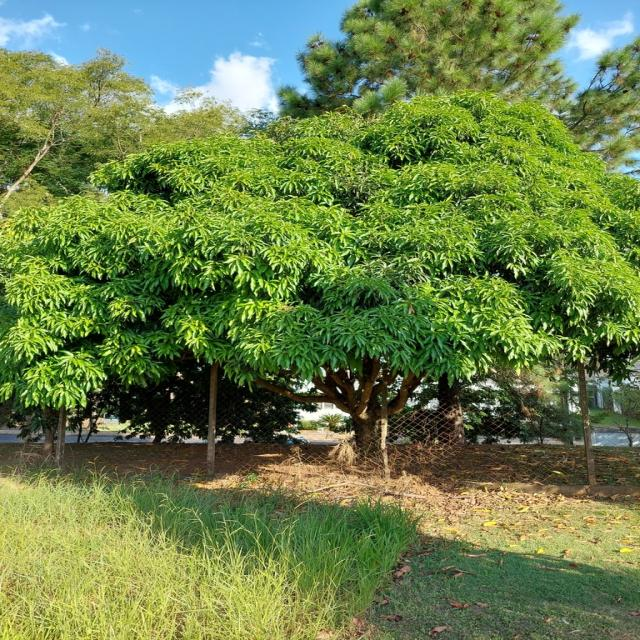Mango-Tree: (26, 80, 611, 457)
